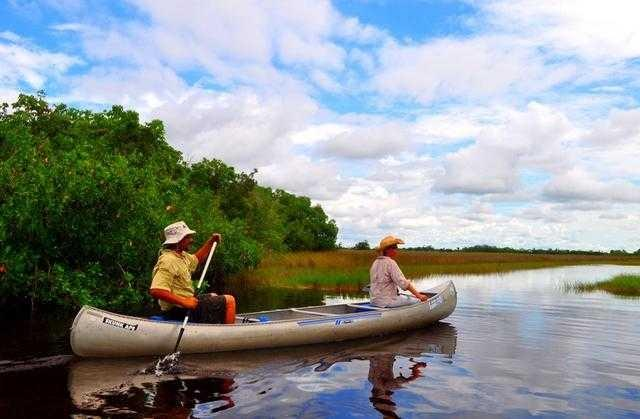kayak: (71, 282, 457, 357)
